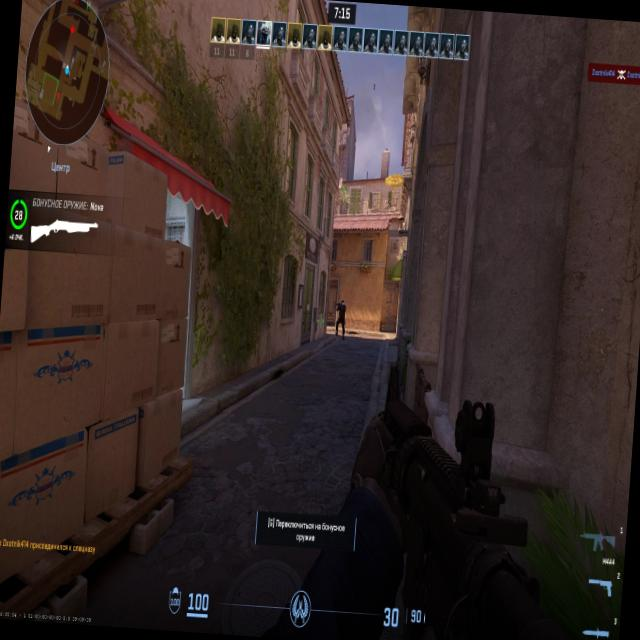CT: (336, 298, 346, 333)
CT_heat: (341, 300, 345, 306)
